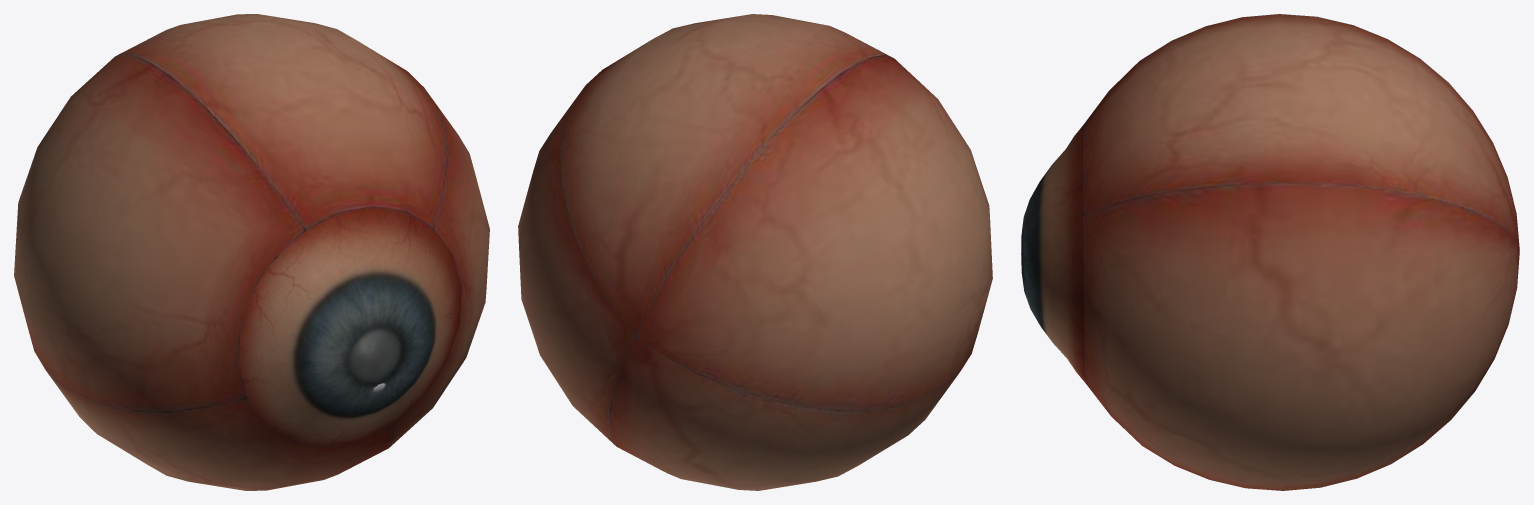
File: eyeGlaucomaM.glb
3 renders of one model, left to right at view 1: azimuth 30°, elevation 25°; view 2: azimuth 150°, elevation 25°; view 3: azimuth 270°, elevation 25°, orthographic.
Visible parts, largest first — view 1: eye_low.001; view 2: eye_low.001; view 3: eye_low.001.
Part boxes in pixels (x1,y1,x2,y2): eye_low.001: (14,14,489,490); eye_low.001: (518,14,992,490); eye_low.001: (1021,14,1519,490).
Bounding box in the file's own units: 0.0225 × 0.0225 × 0.0237.
Materials: 1 (1 with a texture image).
